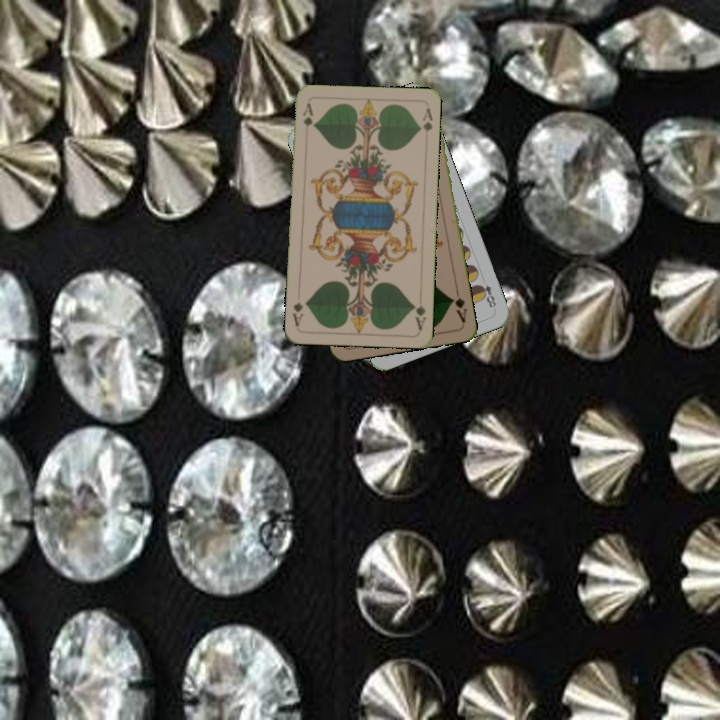E8: (474, 280, 499, 311)
GA: (447, 285, 469, 325), (409, 300, 429, 332), (299, 99, 315, 139)
